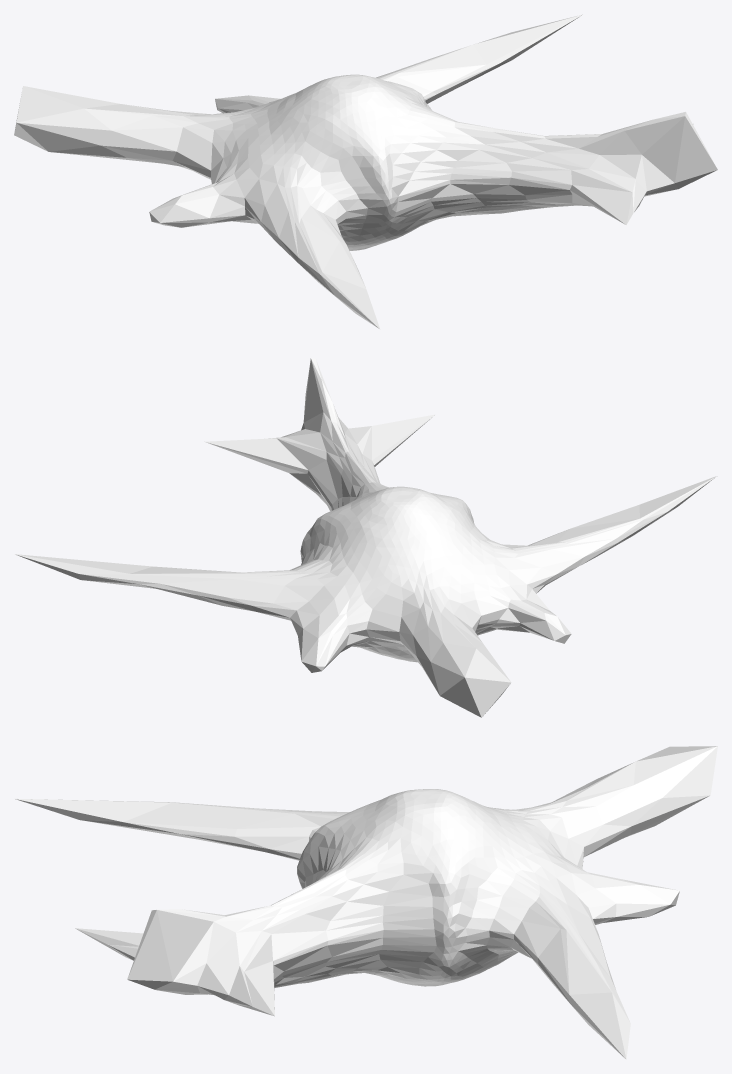
File: plane_rotZ45[0.3,0.0,0.3]s1[-1.7,0.0,-1.7]_00140.obj
3 renders of one model, top to bottom at view 1: azimuth 30°, elevation 25°; view 2: azimuth 150°, elevation 25°; view 3: azimuth 270°, elevation 25°, orthographic. The views are drawn at different scales.
Bounding box in the file's own units: 1.31 × 0.3756 × 1.3.
1 material, 1 textured.
